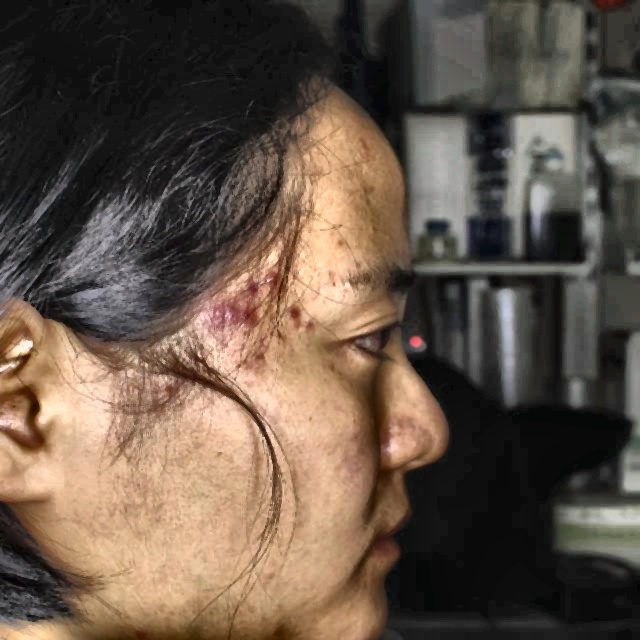pustule: (194, 294, 234, 328), (237, 305, 260, 333), (234, 280, 264, 294), (305, 320, 328, 336), (264, 265, 281, 285), (282, 306, 304, 320)
